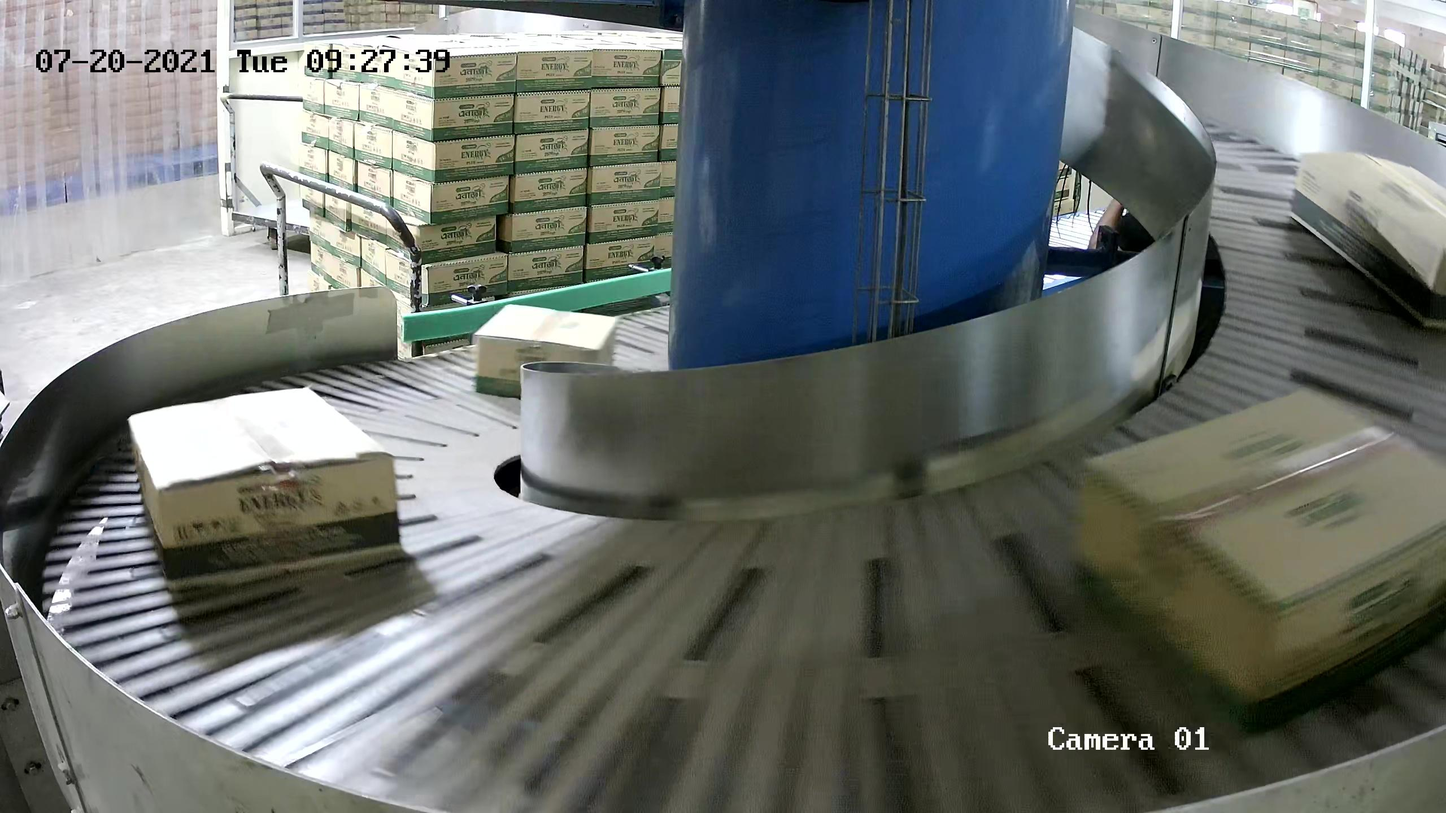Box: (1070, 381, 1446, 738), (125, 384, 407, 597), (1288, 149, 1446, 331), (471, 302, 620, 399)
